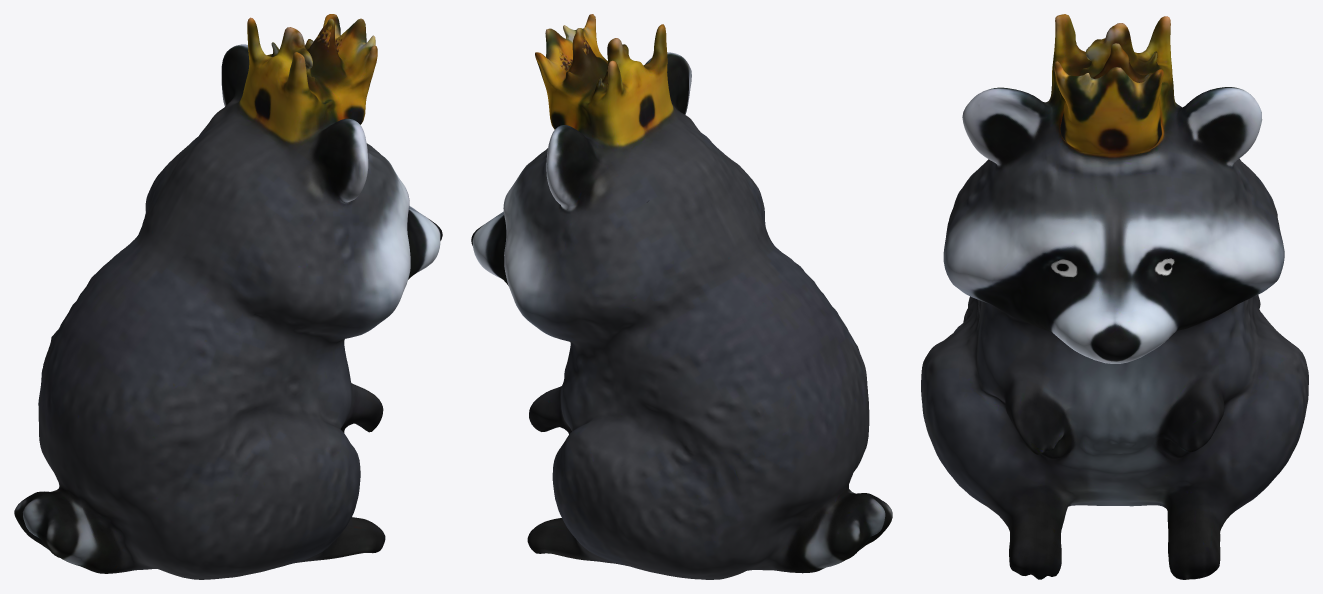
Rendered from racoonking.fbx.
3 renders of one model, left to right at view 1: azimuth 30°, elevation 25°; view 2: azimuth 150°, elevation 25°; view 3: azimuth 270°, elevation 25°, orthographic. The views are drawn at different scales.
Visible parts, largest first — view 1: geometry_0; view 2: geometry_0; view 3: geometry_0.
Boxes of the visible parts, <box> form: geometry_0: <box>14,14,442,579</box>; geometry_0: <box>471,14,892,579</box>; geometry_0: <box>921,14,1308,579</box>.
Size of the model in its own units: 45.49 by 52.72 by 34.59.
Materials: 1 (1 with a texture image).
